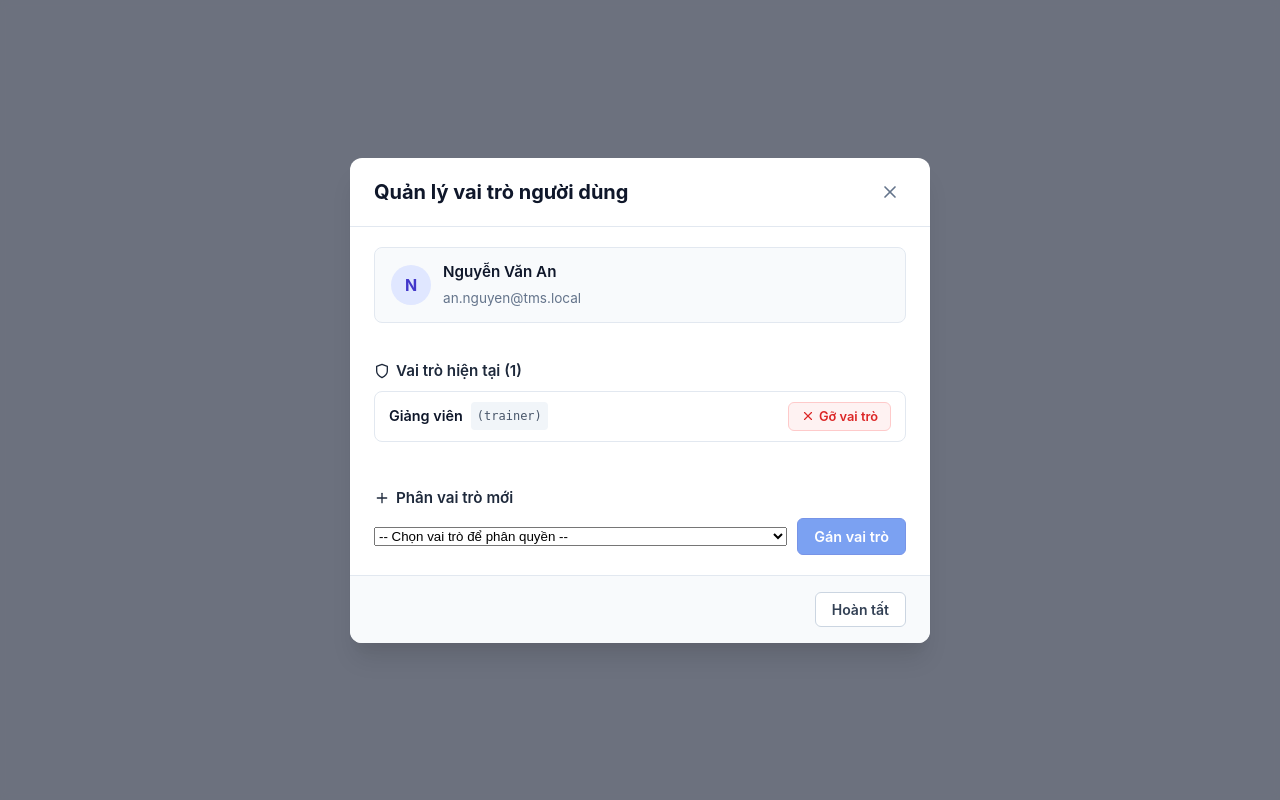
SCRUM-101: User Role Management Modal Component › 5. gỡ vai trò thành công
The width and height of the screenshot is (1280, 800).
Click the button with test id "btn-revoke-role-2" at (840, 416), box [788, 402, 891, 430]
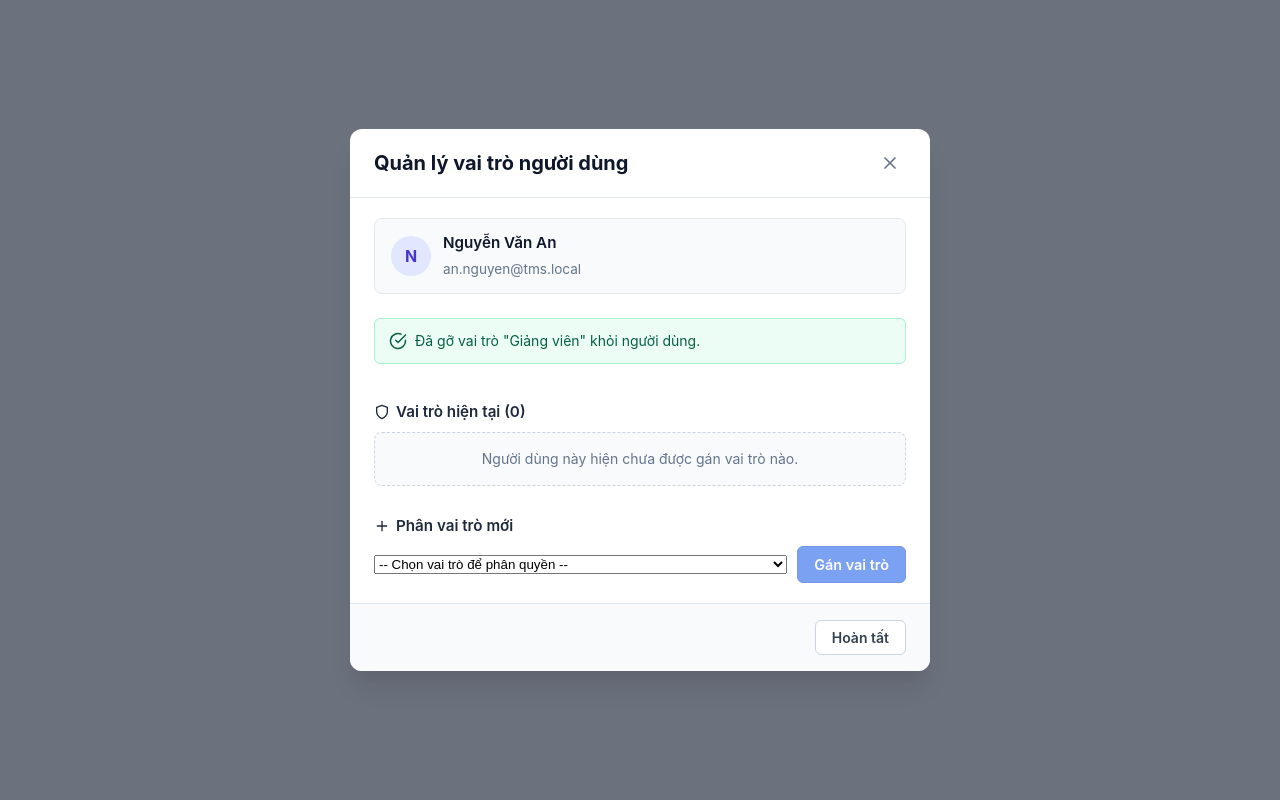
Now the message "Đã gỡ vai trò \"Giảng viên\" khỏi người dùng." is shown, box [374, 318, 906, 364]
Now the text "Đã gỡ vai trò \"Giảng viên\" khỏi người dùng." is shown, box [415, 329, 700, 353]
